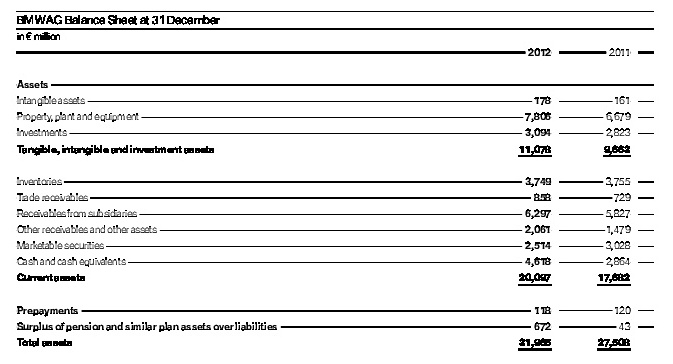table: (0, 0, 673, 364)
